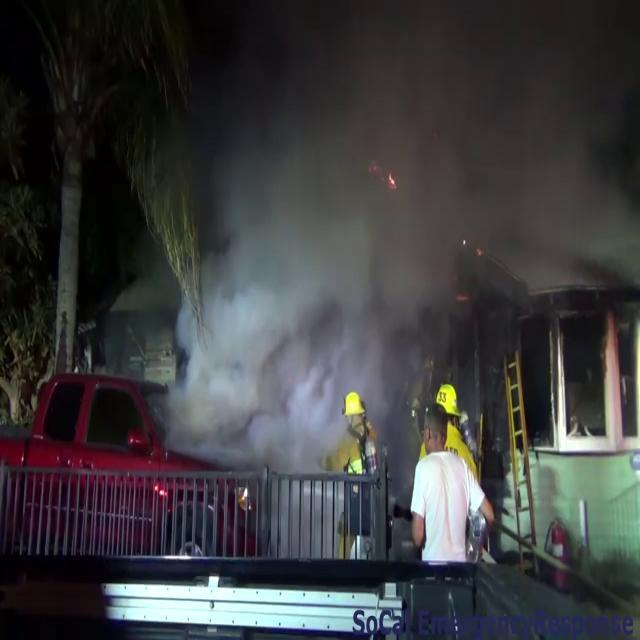Smoke: (162, 0, 634, 439)
